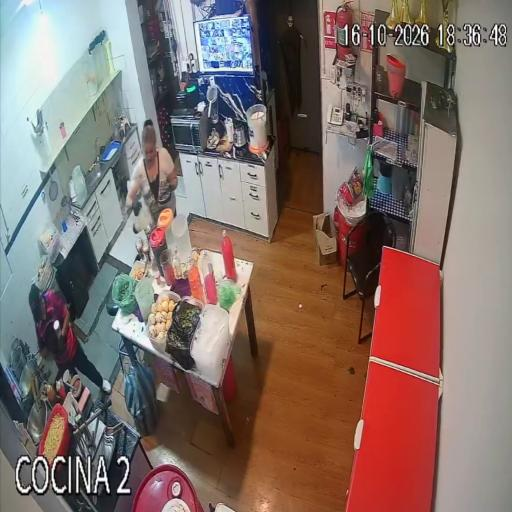Envase Ketchup: (57, 380, 66, 400)
Envase Llajua: (48, 388, 61, 405)
Jarra1: (150, 228, 166, 274)
Jarra2: (158, 208, 174, 247)
Jarra3: (173, 214, 191, 264)
Microondas: (171, 111, 208, 152)
Persona2: (29, 284, 110, 392)
Persona3: (127, 119, 177, 222)
Taper: (40, 225, 60, 261)
Taper2: (166, 296, 203, 370)
Taper3: (190, 304, 230, 384)
Taper4: (146, 290, 182, 352)
olla1: (19, 358, 38, 401)
